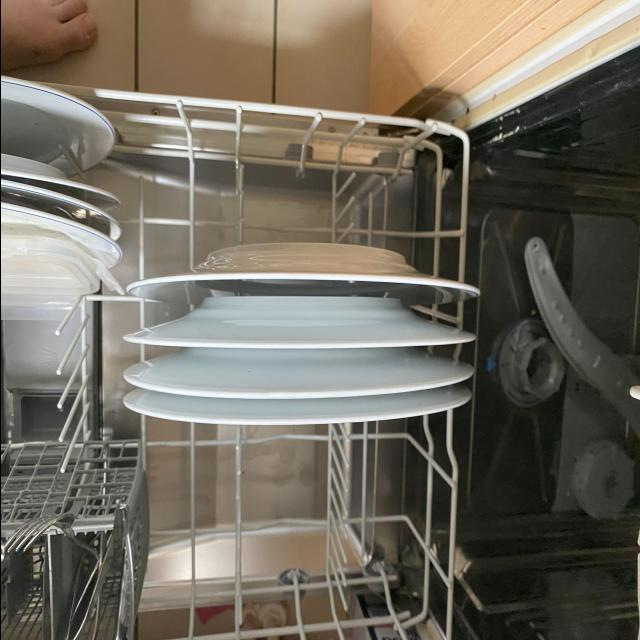clutery_bin: (0, 522, 118, 634)
empty_slot: (165, 439, 414, 609), (151, 112, 447, 237)
